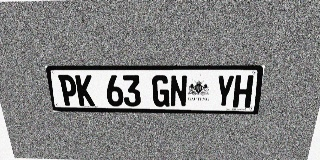3: (122, 75, 141, 106)
6: (105, 75, 124, 106)
G: (152, 75, 169, 107)
H: (232, 75, 254, 108)
K: (75, 75, 95, 106)
N: (170, 75, 188, 107)
P: (58, 75, 79, 106)
Y: (215, 75, 235, 107)
